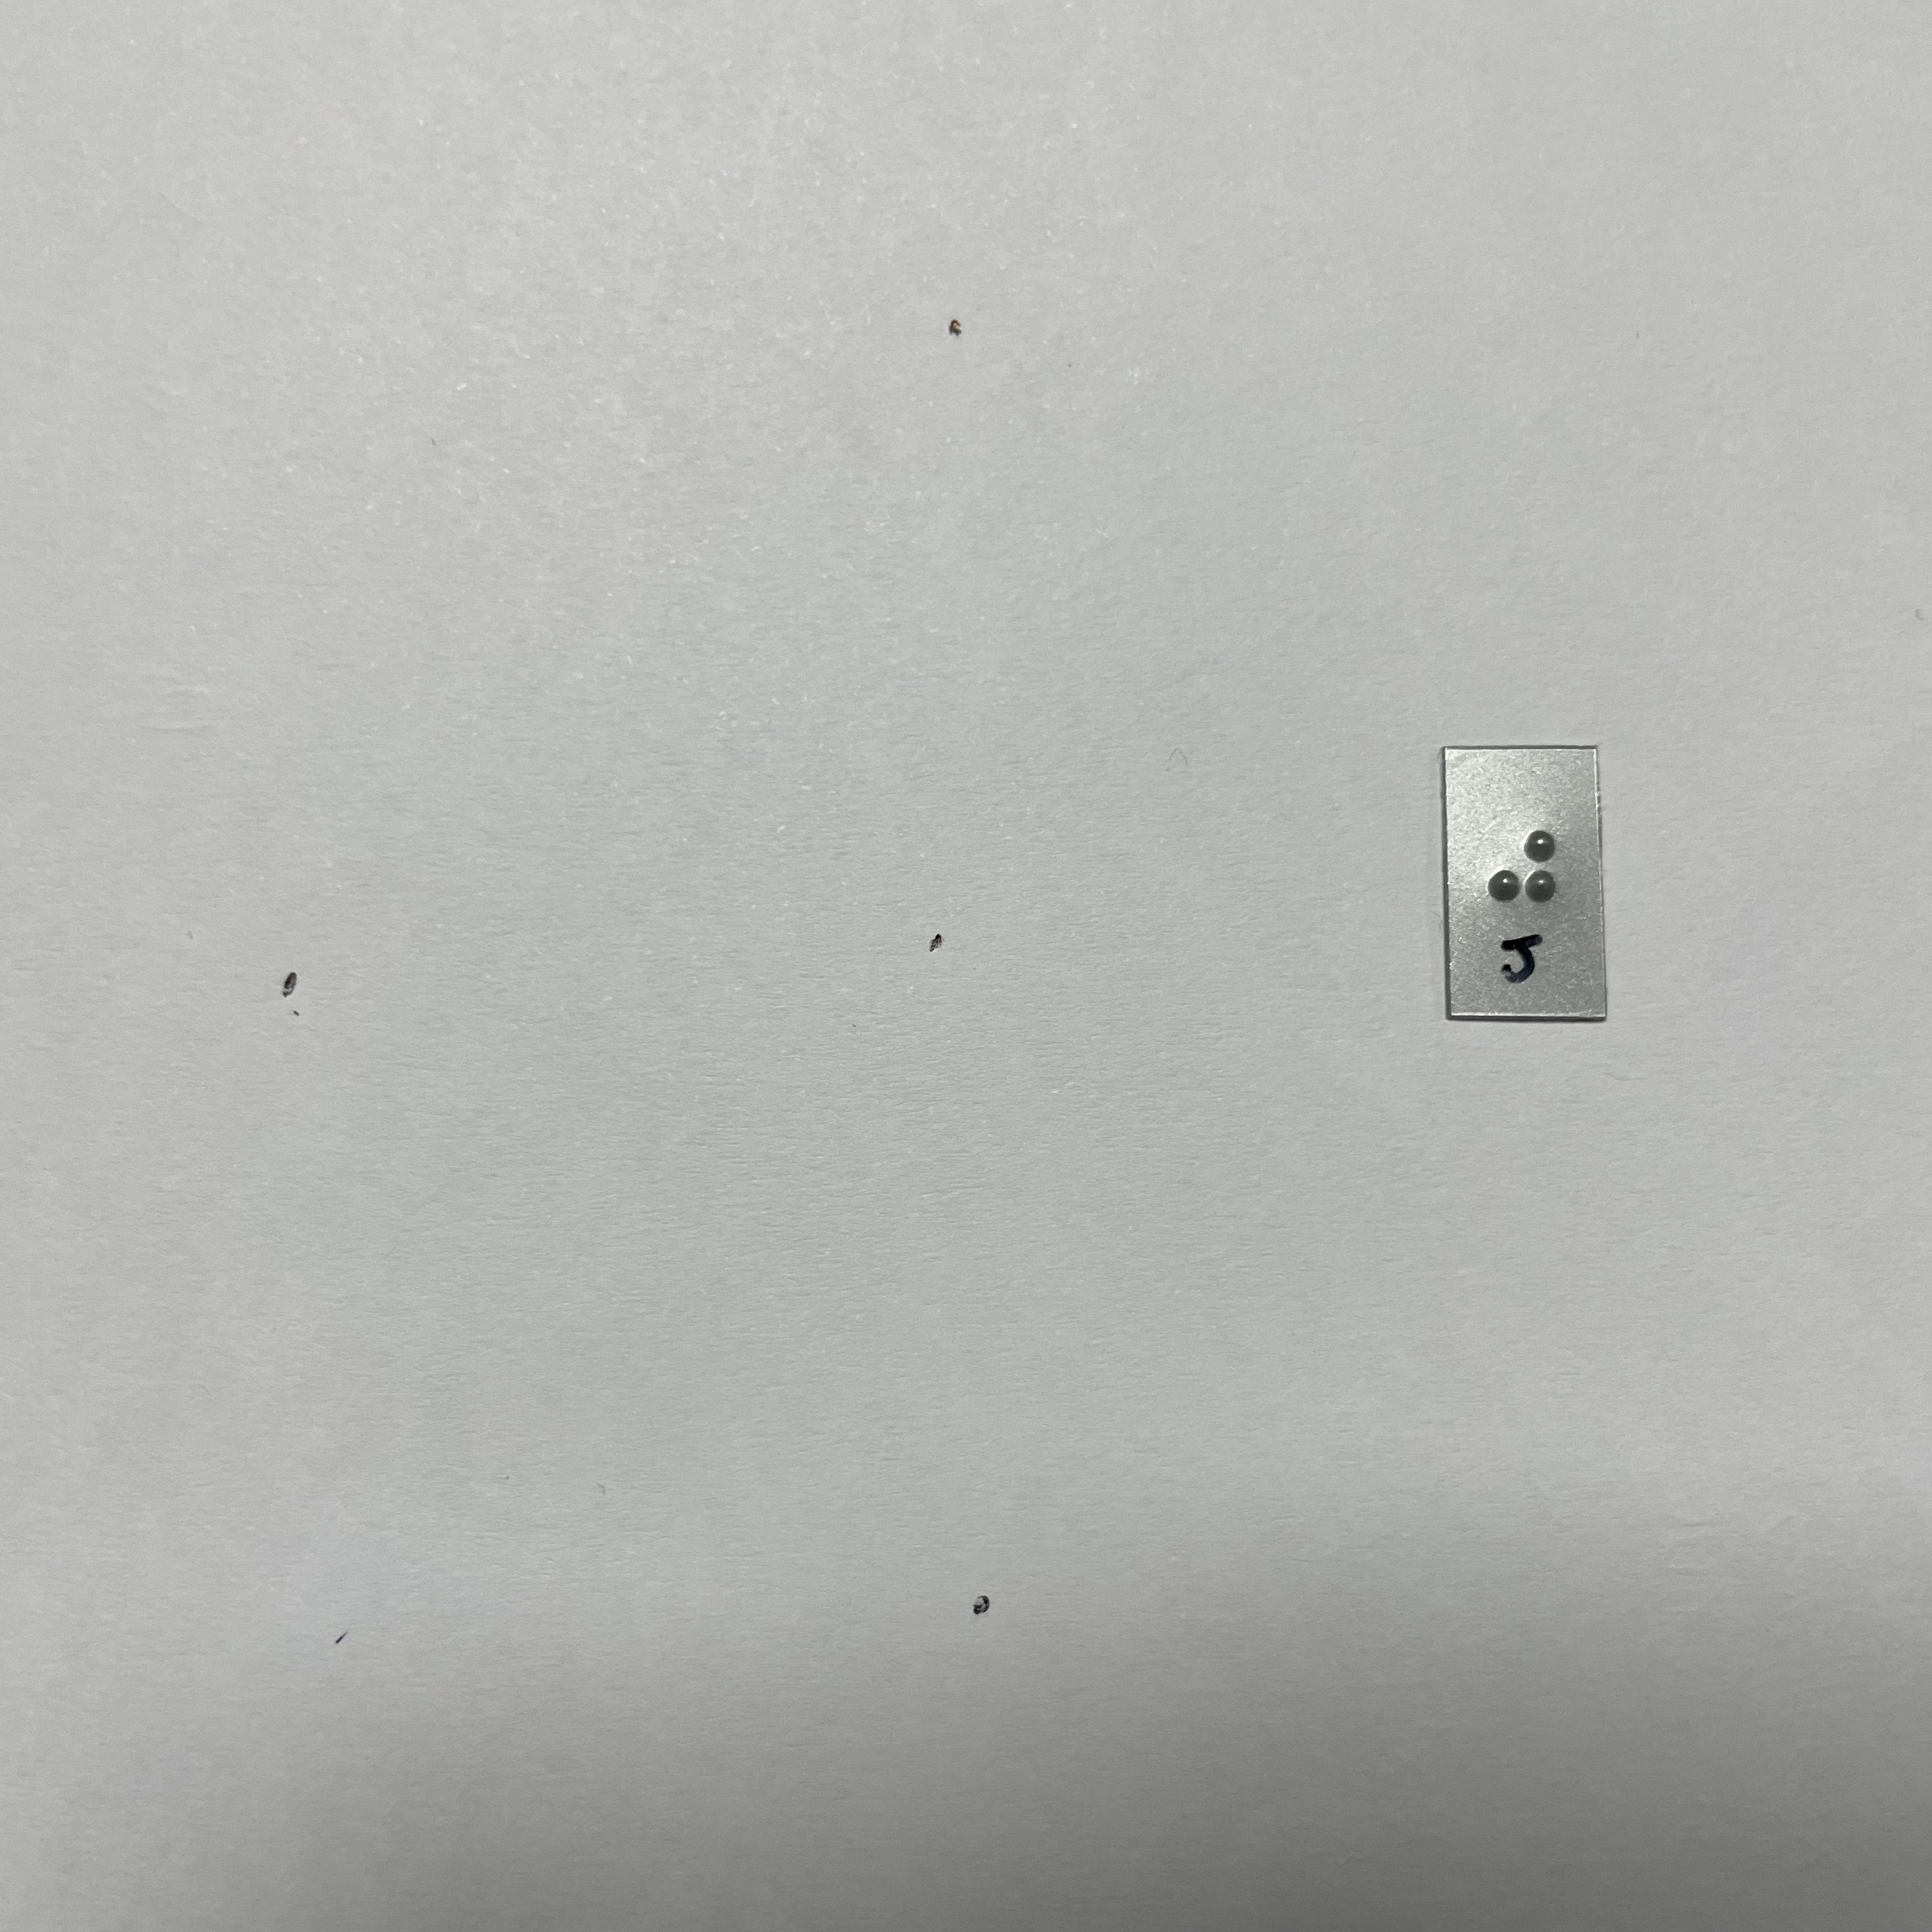j: (1484, 812, 1569, 947)
